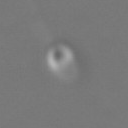normal: (23, 2, 55, 44)
